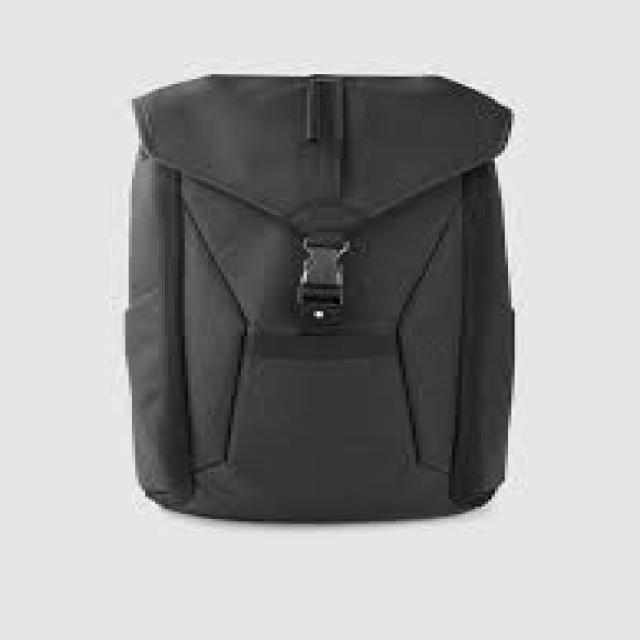backpack: (123, 73, 516, 522)
